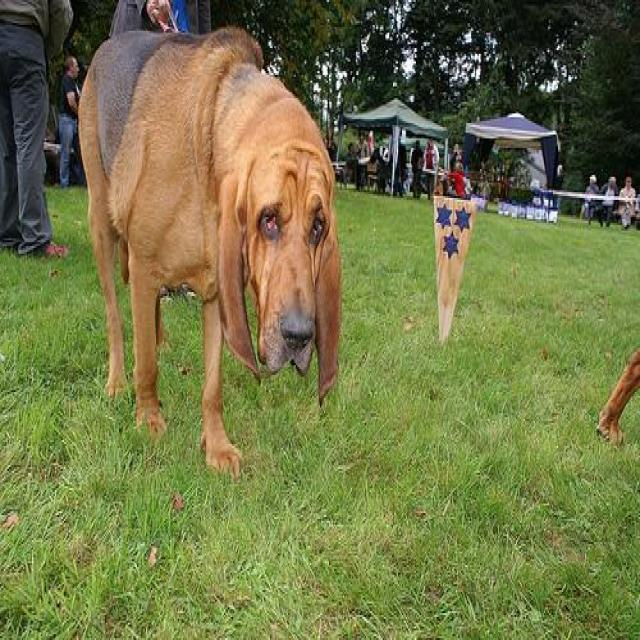bloodhound: (76, 19, 342, 477)
